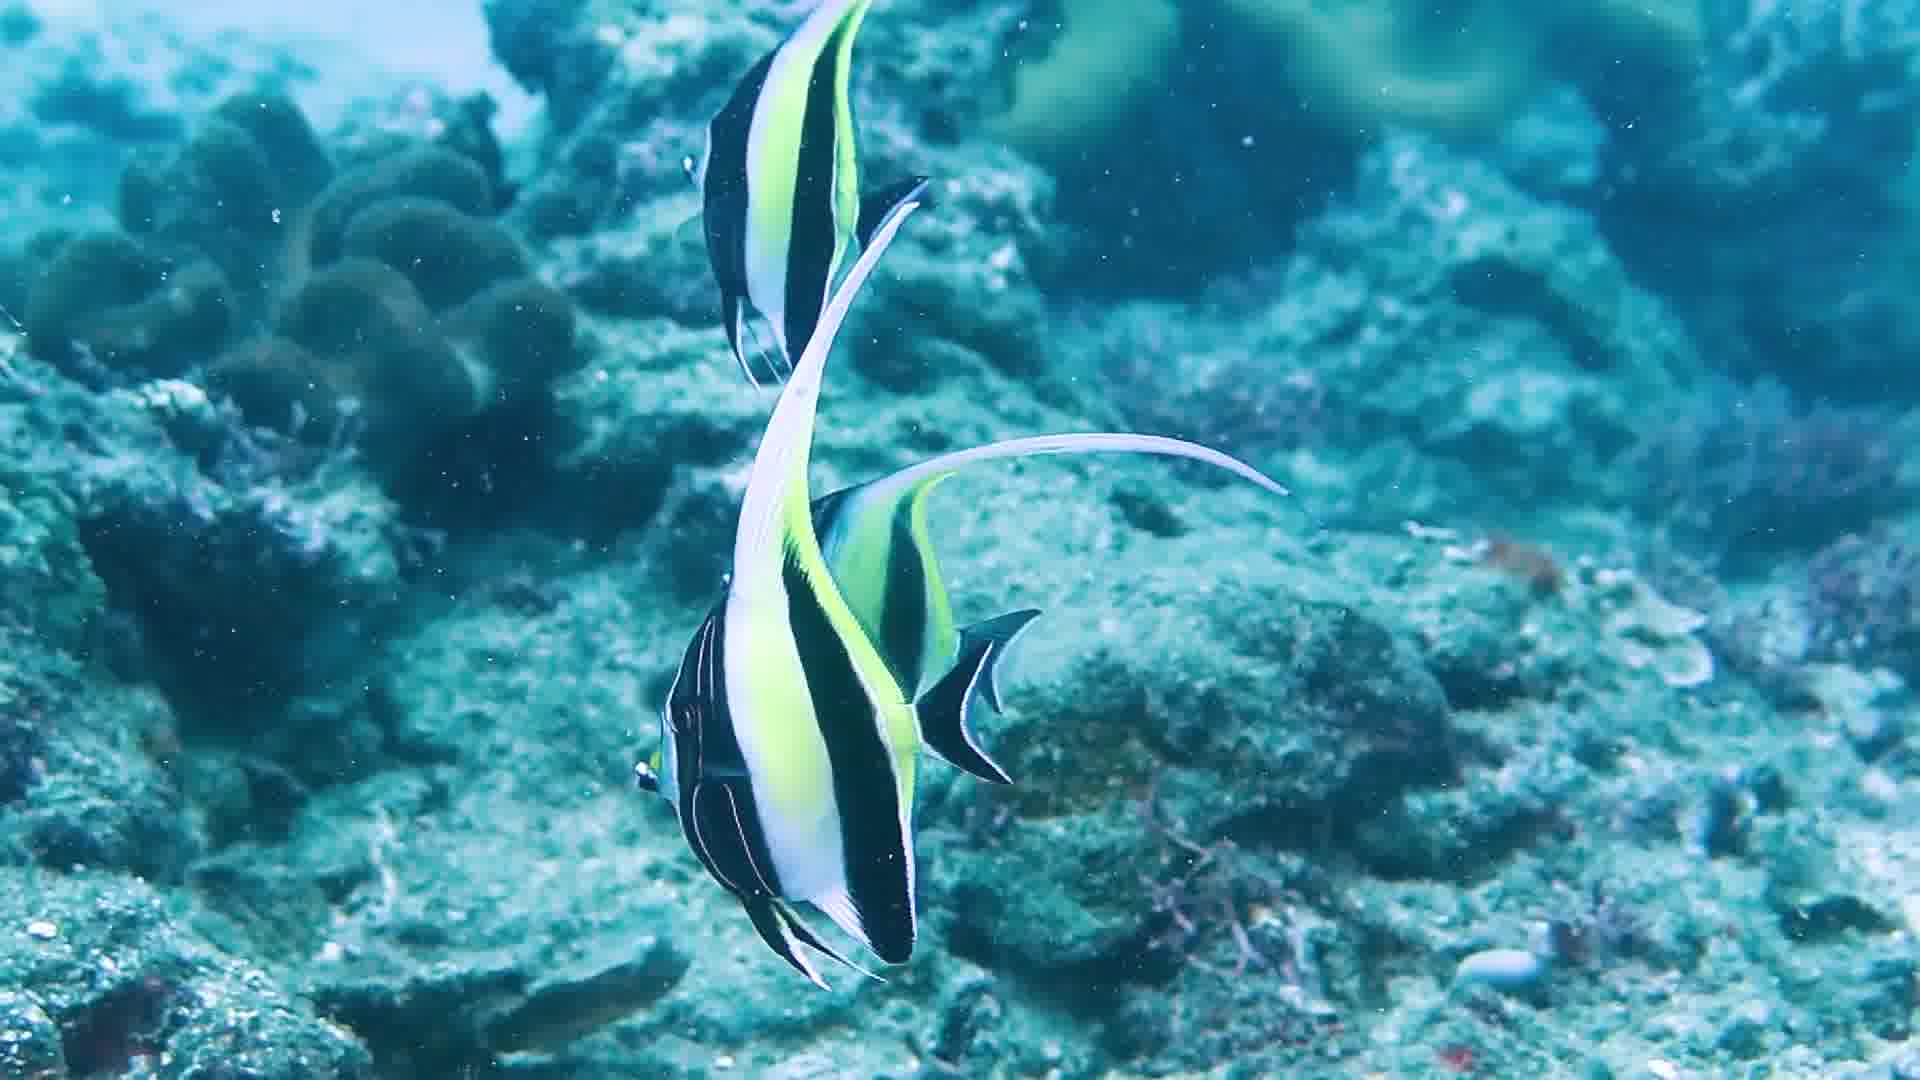Zanclus cornutus: (638, 495, 949, 1004), (634, 1, 931, 411)
